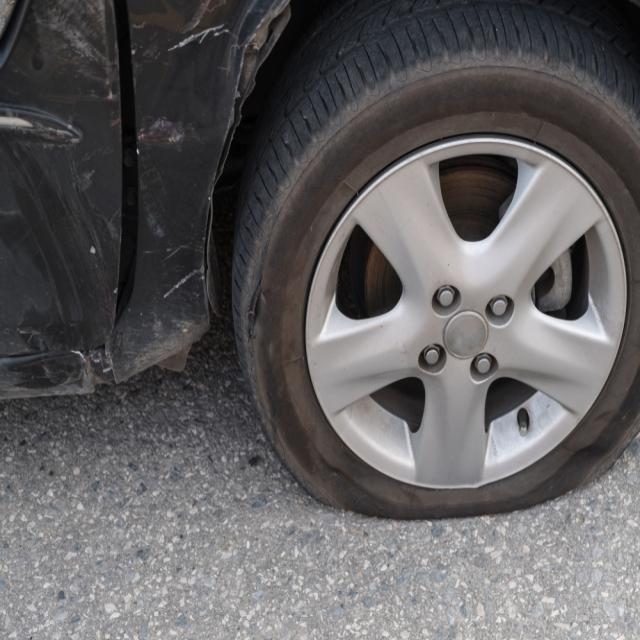tire flat: (229, 0, 640, 520)
